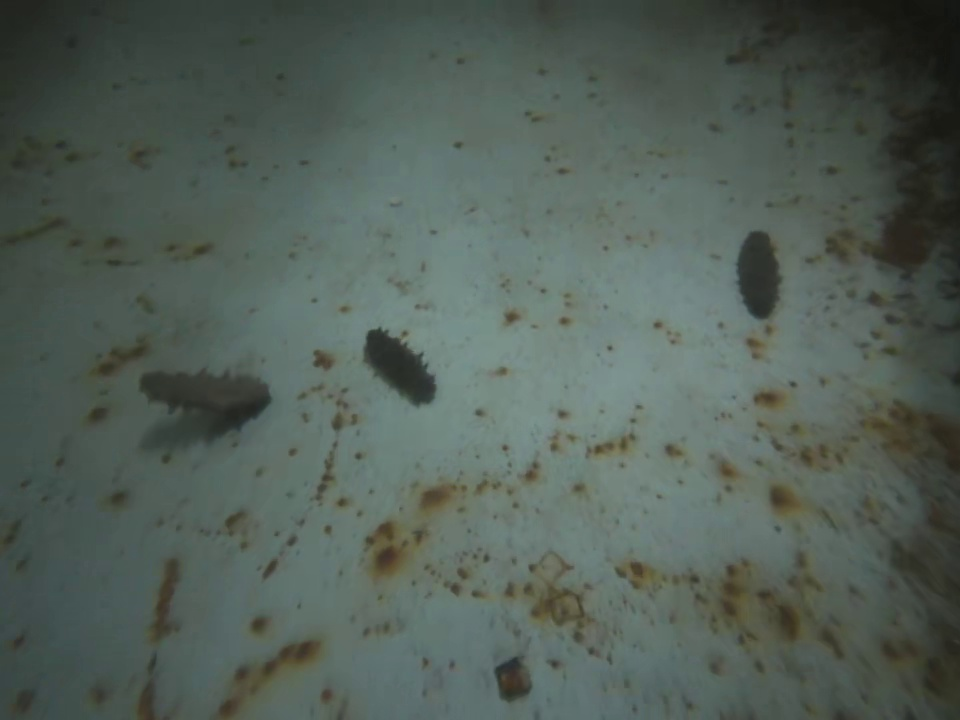seacucumber: (136, 370, 276, 420), (363, 325, 436, 405), (737, 226, 777, 320)
